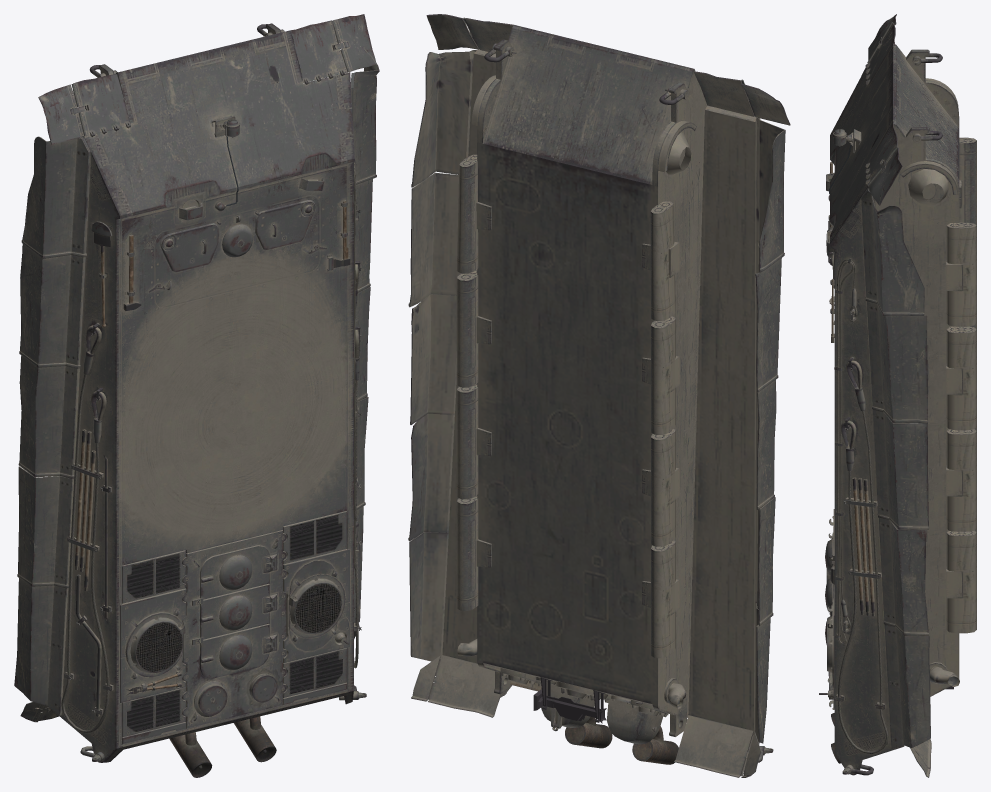
File: Hull.glb
3 renders of one model, left to right at view 1: azimuth 30°, elevation 25°; view 2: azimuth 150°, elevation 25°; view 3: azimuth 270°, elevation 25°, orthographic. The views are drawn at different scales.
Visible parts, largest first — view 1: set_0_group_0; view 2: set_0_group_0; view 3: set_0_group_0.
Part boxes in pixels (x1,y1,x2,y2): set_0_group_0: (14, 14, 379, 777); set_0_group_0: (408, 14, 790, 777); set_0_group_0: (819, 14, 976, 777).
Size of the model in its own units: 3.84 by 7.57 by 1.63.
Materials: 1 (1 with a texture image).
